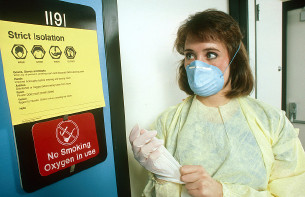face_mask: (183, 32, 232, 96)
